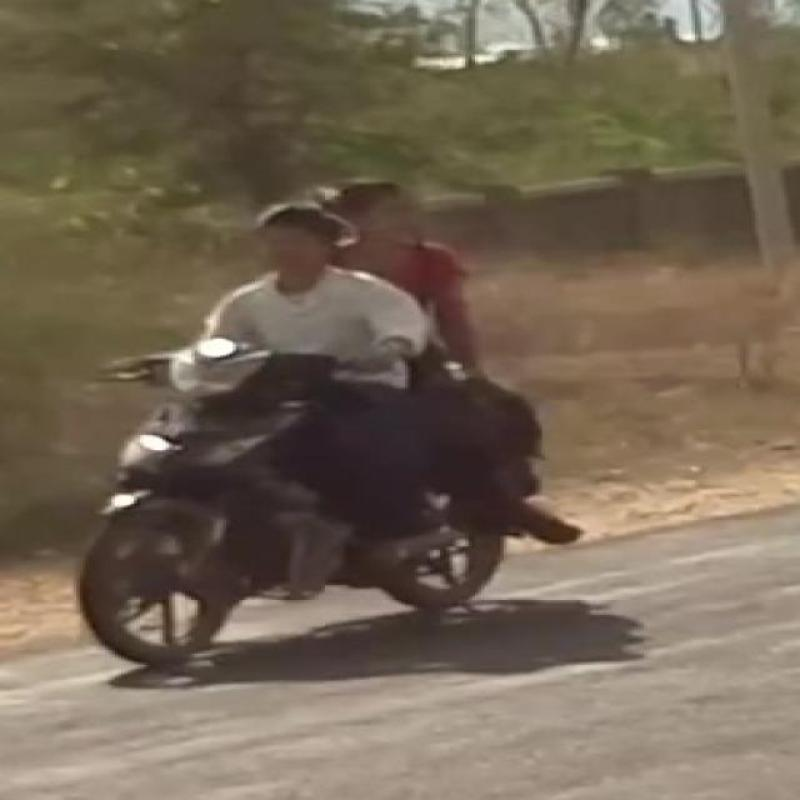nohelmet: (234, 178, 374, 272)
